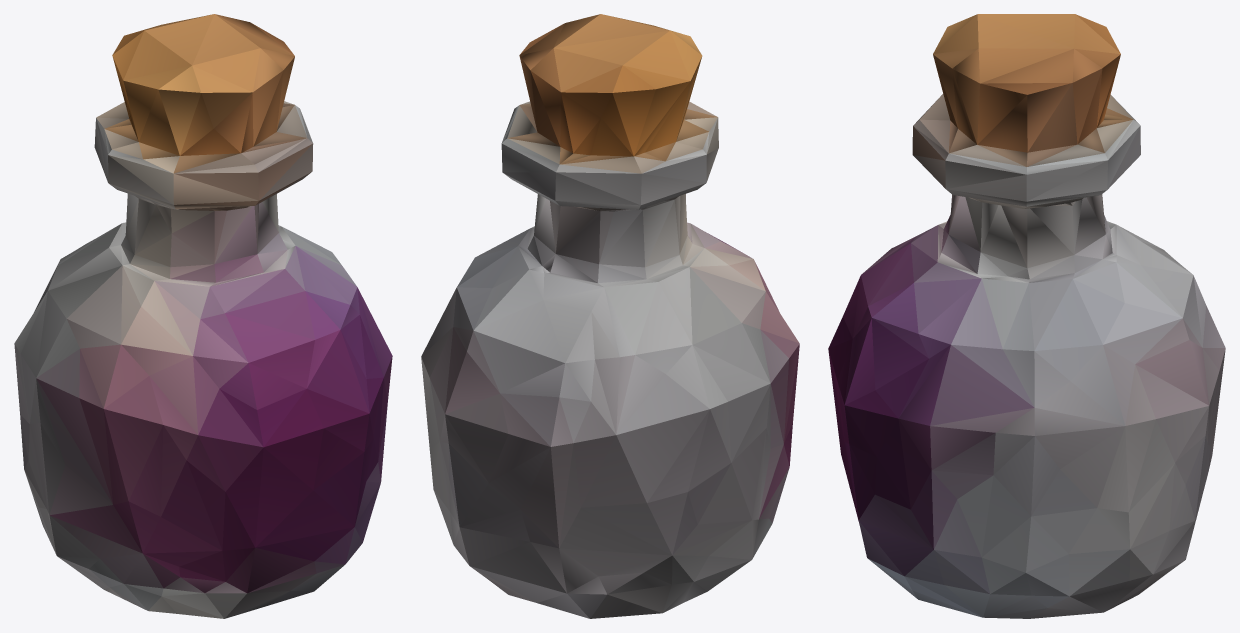
File: building-ruins-bottleIndicator.glb
3 renders of one model, left to right at view 1: azimuth 30°, elevation 25°; view 2: azimuth 150°, elevation 25°; view 3: azimuth 270°, elevation 25°, orthographic. The views are drawn at different scales.
Visible parts, largest first — view 1: 0_ruins-bottleIndicator; view 2: 0_ruins-bottleIndicator; view 3: 0_ruins-bottleIndicator.
Boxes of the visible parts, x1,y1,x2,y2 form: 0_ruins-bottleIndicator: (14, 14, 392, 618); 0_ruins-bottleIndicator: (421, 14, 799, 618); 0_ruins-bottleIndicator: (828, 14, 1225, 618).
Size of the model in its own units: 0.161 by 0.25 by 0.1667.
